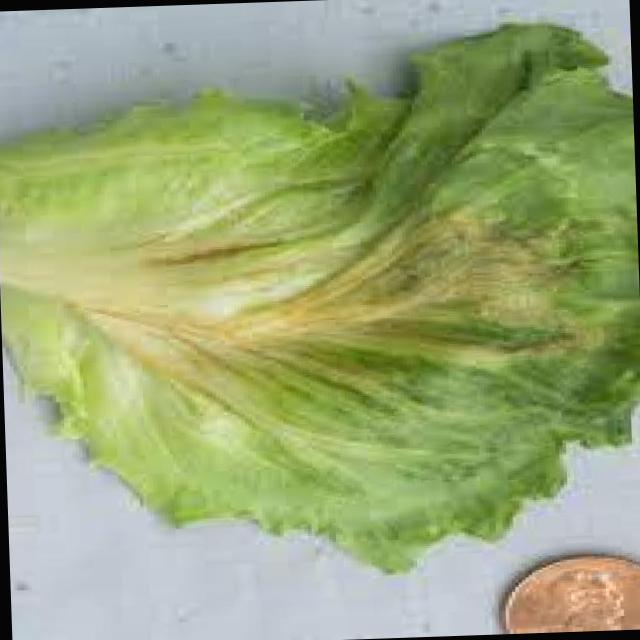Downy_Mildew: (113, 154, 611, 435)
